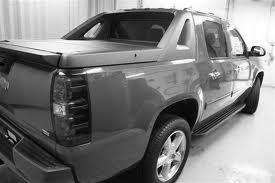car: (1, 7, 270, 183)
